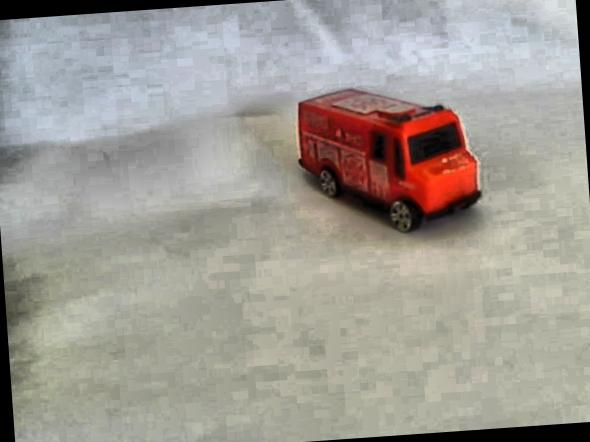fire_truck: (283, 76, 492, 250), (300, 122, 344, 190), (300, 96, 362, 135)
